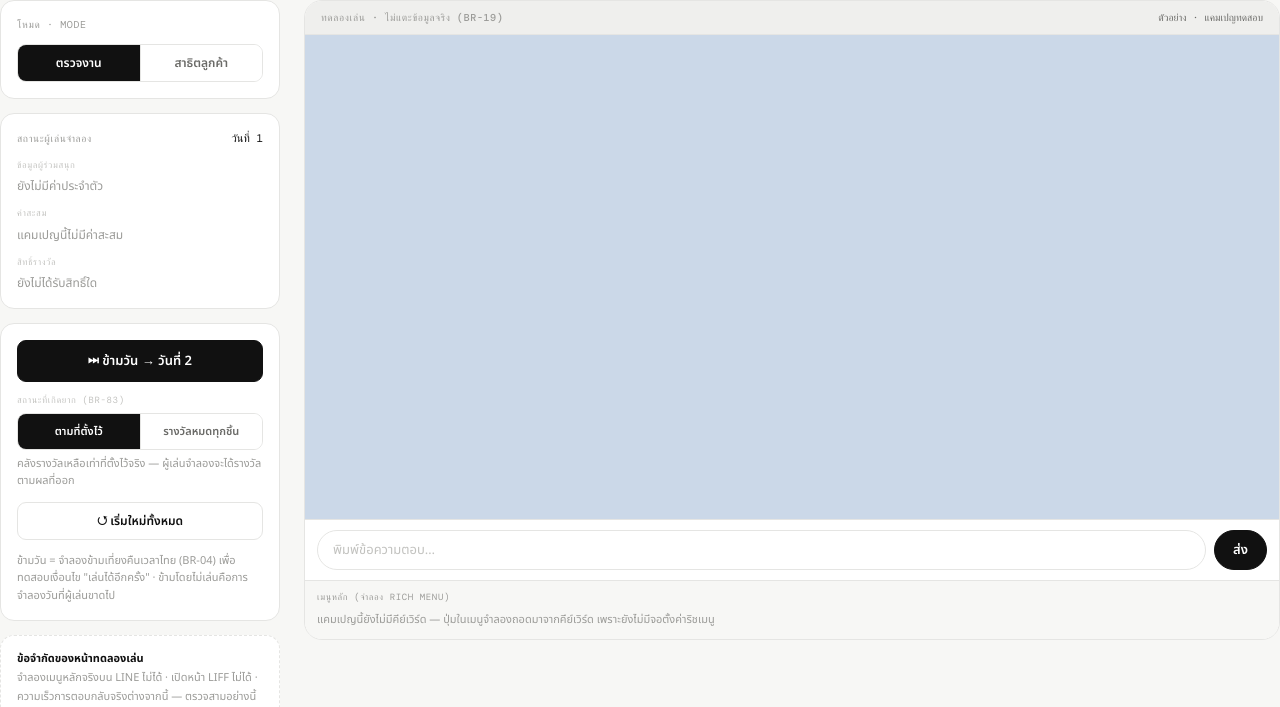
Test: พิมพ์คุยกับกติกา › ส่งข้อความแล้วทั้งของเราและคำตอบขึ้นบนจอ
In the field with placeholder "พิมพ์ข้อความตอบ…": (762, 550) [317,530,1206,570], type "เล่น"
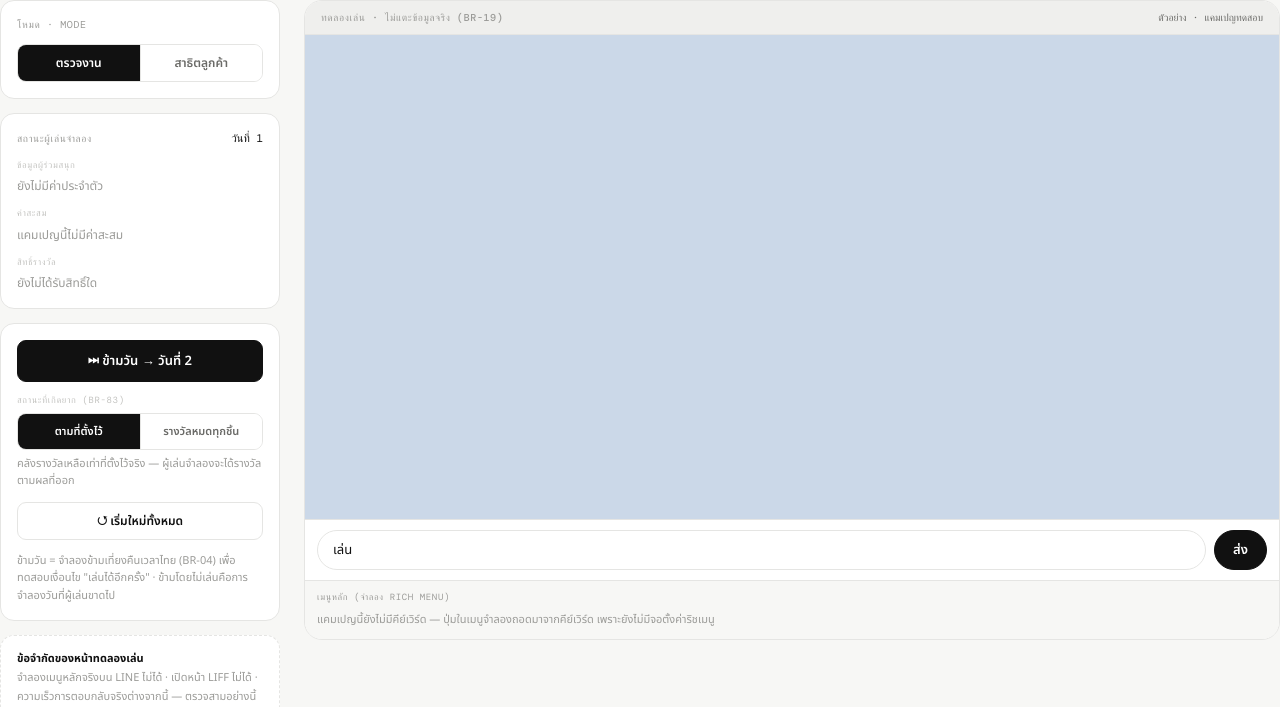
Click the button "ส่ง": (1241, 550) [1214,530,1267,570]
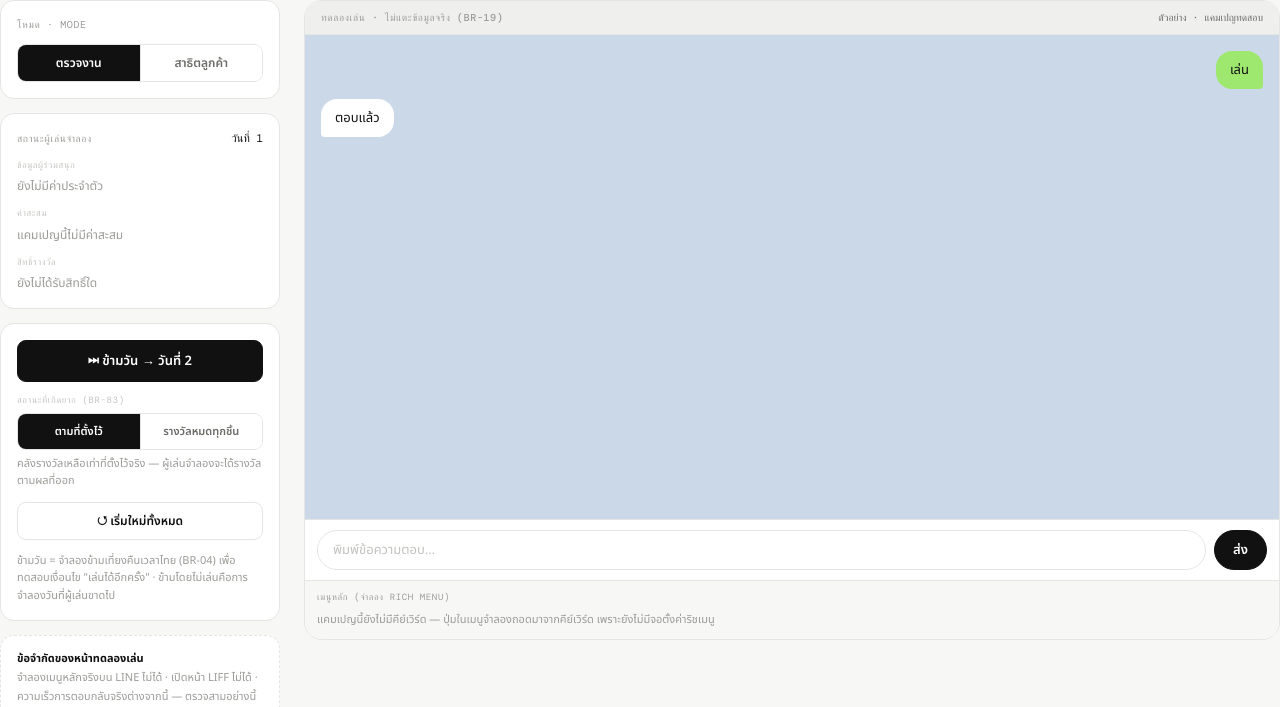
Check: the text "ตอบแล้ว" is shown, box [321,99,394,137]
Check: the text "เล่น" is shown, box [1216,51,1263,89]
